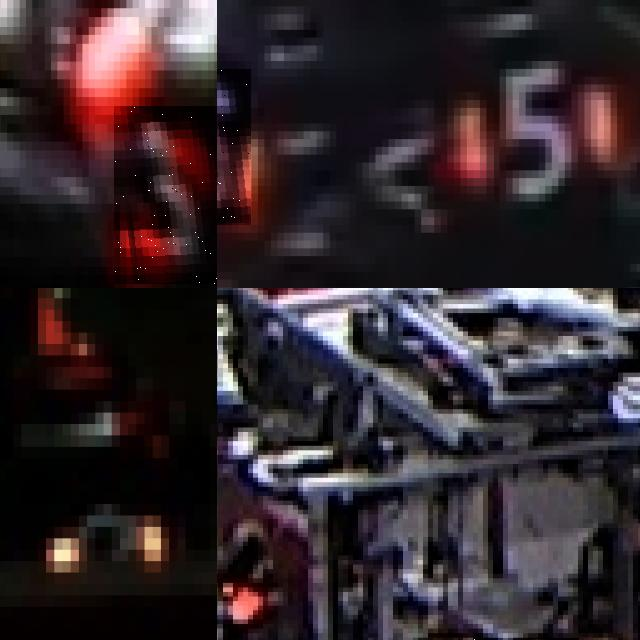R3: (113, 106, 217, 284)
R5: (447, 53, 624, 202), (217, 69, 251, 225)
